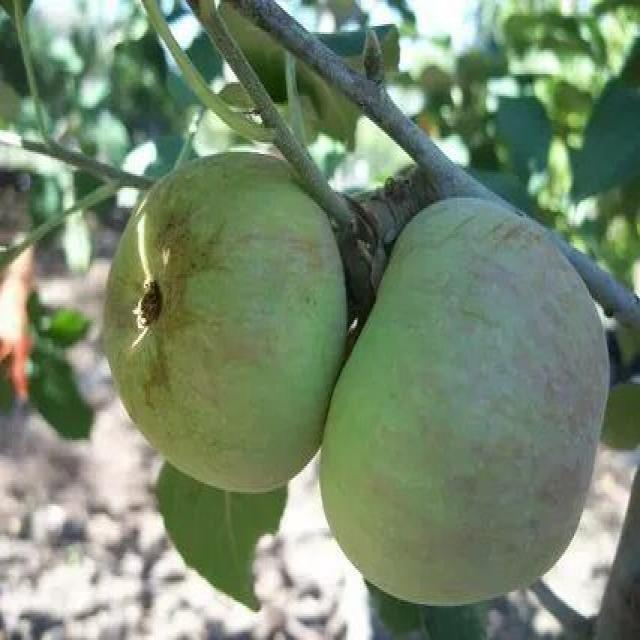Fresh Apple: (313, 203, 615, 597), (102, 165, 333, 492)
